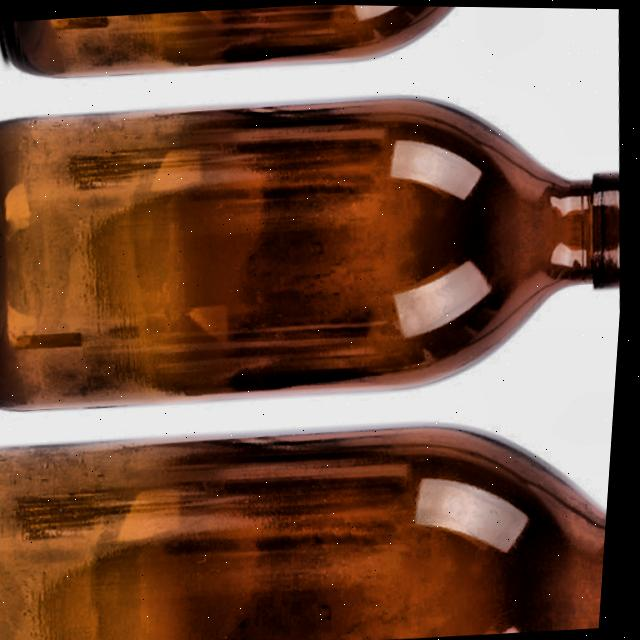glass: (0, 90, 623, 410), (0, 417, 614, 640), (0, 4, 459, 75)
